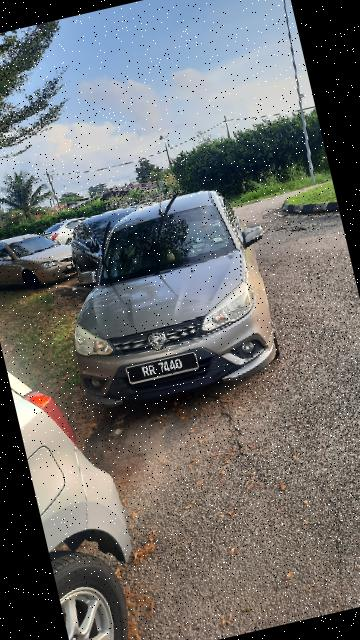License_Plate: (116, 346, 204, 392)
car: (41, 176, 298, 423), (1, 214, 90, 298)
